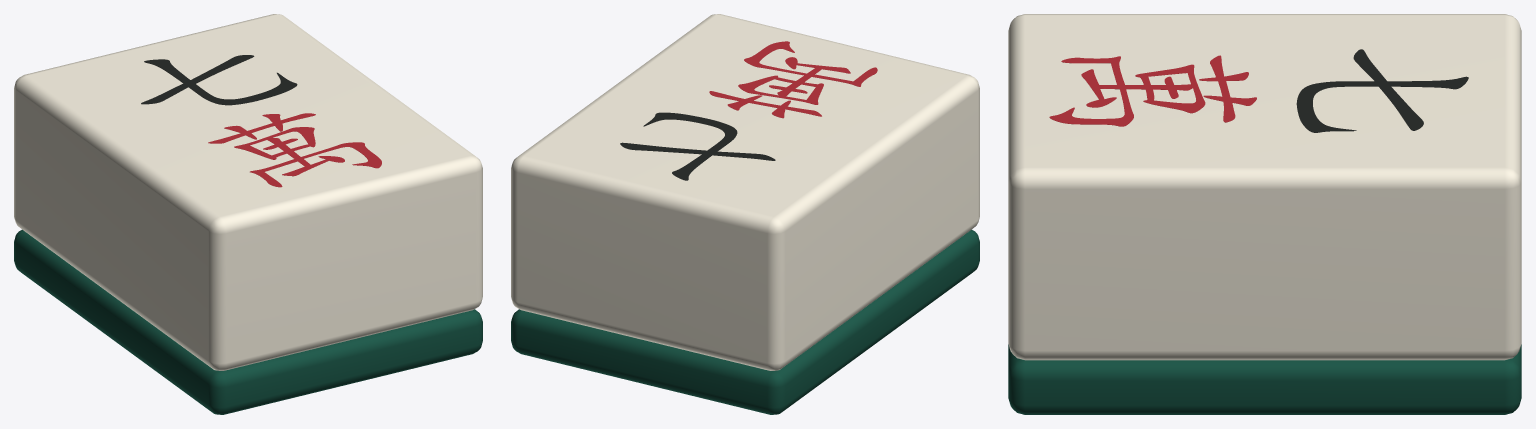
Rendered from wan-07.glb.
3 views of the same model, side by side, from view 1: azimuth 30°, elevation 25°; view 2: azimuth 150°, elevation 25°; view 3: azimuth 270°, elevation 25° (orthographic). The views are drawn at different scales.
Visible parts, largest first — view 1: wan-07_ivory, wan-07_back, wan-07_face_inlays; view 2: wan-07_ivory, wan-07_back, wan-07_face_inlays; view 3: wan-07_ivory, wan-07_back, wan-07_face_inlays.
Boxes of the visible parts, x1,y1,x2,y2 form: wan-07_ivory: [14, 14, 482, 370]; wan-07_back: [14, 229, 482, 414]; wan-07_face_inlays: [141, 55, 381, 187]; wan-07_ivory: [511, 14, 979, 370]; wan-07_back: [511, 229, 979, 414]; wan-07_face_inlays: [620, 41, 877, 180]; wan-07_ivory: [1008, 14, 1521, 360]; wan-07_back: [1008, 344, 1521, 414]; wan-07_face_inlays: [1049, 49, 1468, 132].
Bounding box in the file's own units: 0.026 × 0.018 × 0.034.
